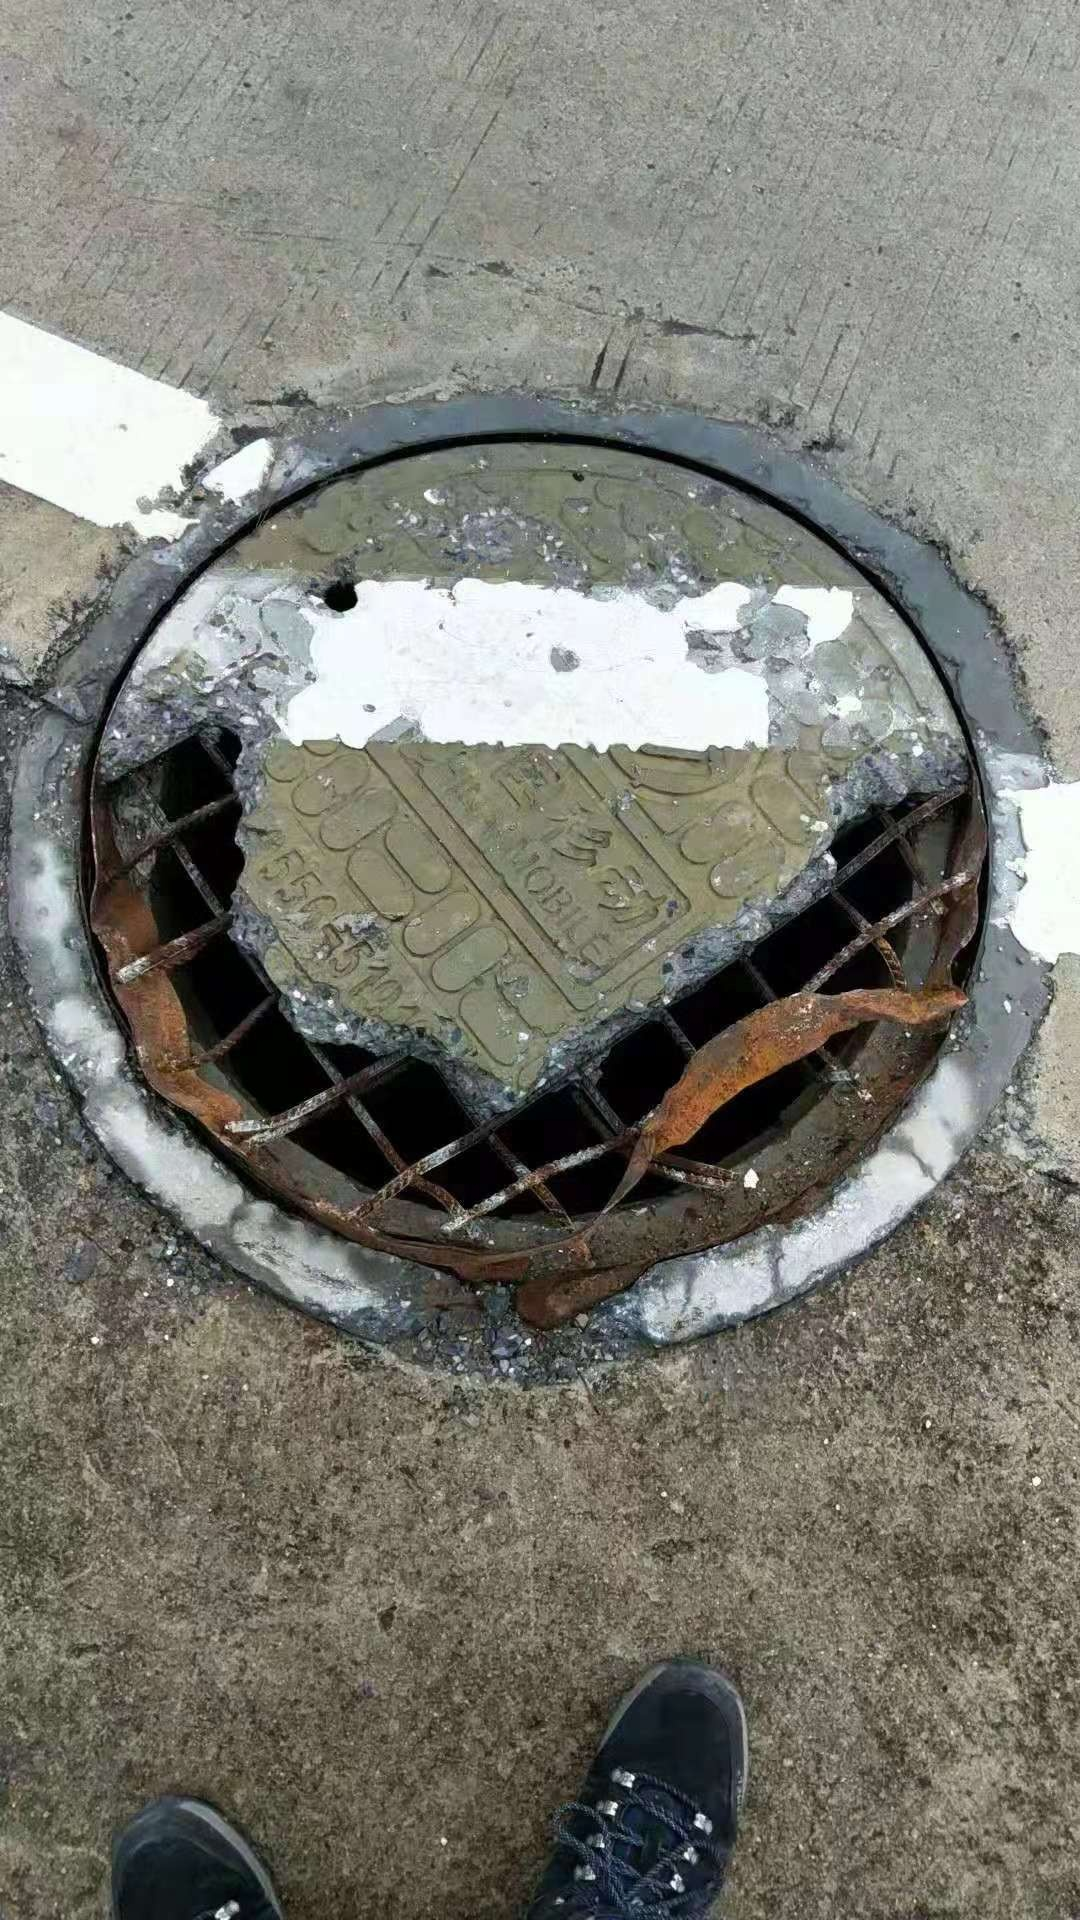broke: (12, 396, 1058, 1383)
